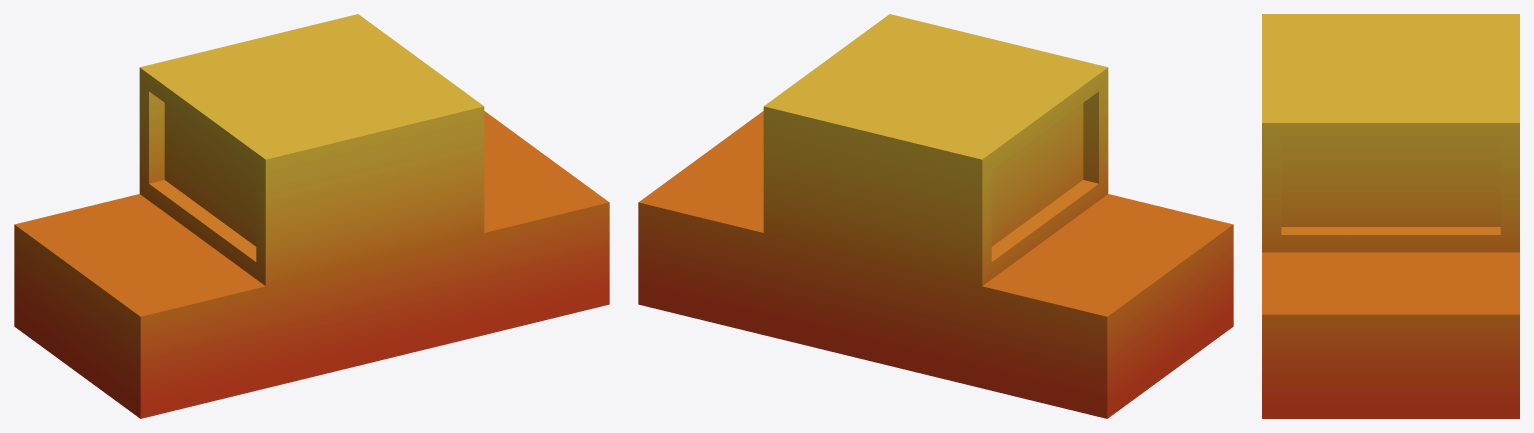
Rendered from blender_car.glb.
3 views of the same model, side by side, from view 1: azimuth 30°, elevation 25°; view 2: azimuth 150°, elevation 25°; view 3: azimuth 270°, elevation 25° (orthographic). The views are drawn at different scales.
Visible parts, largest first — view 1: 자동차; view 2: 자동차; view 3: 자동차.
Boxes of the visible parts, bbox=[...] form: 자동차: bbox=[14, 14, 609, 418]; 자동차: bbox=[638, 14, 1233, 418]; 자동차: bbox=[1262, 14, 1519, 418].
Bounding box in the file's own units: 2.36 × 1.1 × 1.1.
Materials: 1 (1 with a texture image).
